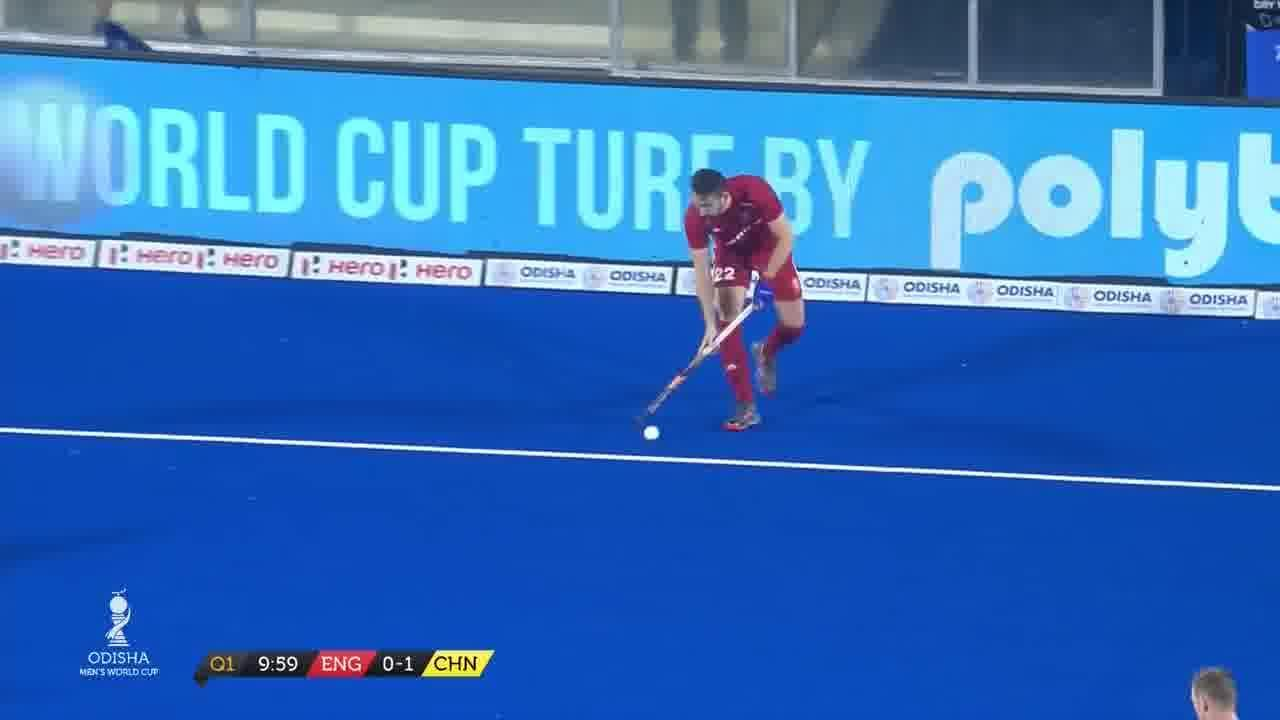ball: (636, 414, 662, 450)
